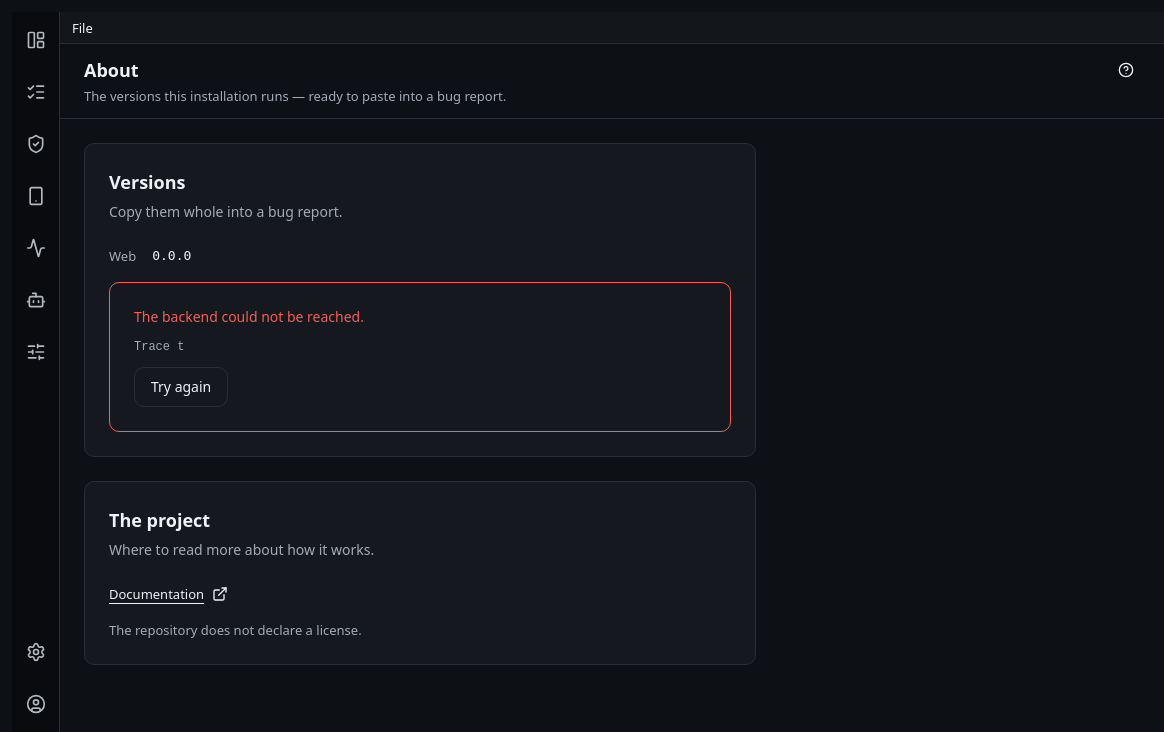
Test: About — plan 06, B-32 › keeps the web’s version on screen, and offers to try again, when the backend cannot be reached — S-204
Expected: the message shows "The backend could not be reached.", [134,307,364,326]
Expected: the text "0.0.0" is shown, [152,248,191,263]
Click the button "Try again": (181, 387) [134,367,228,407]
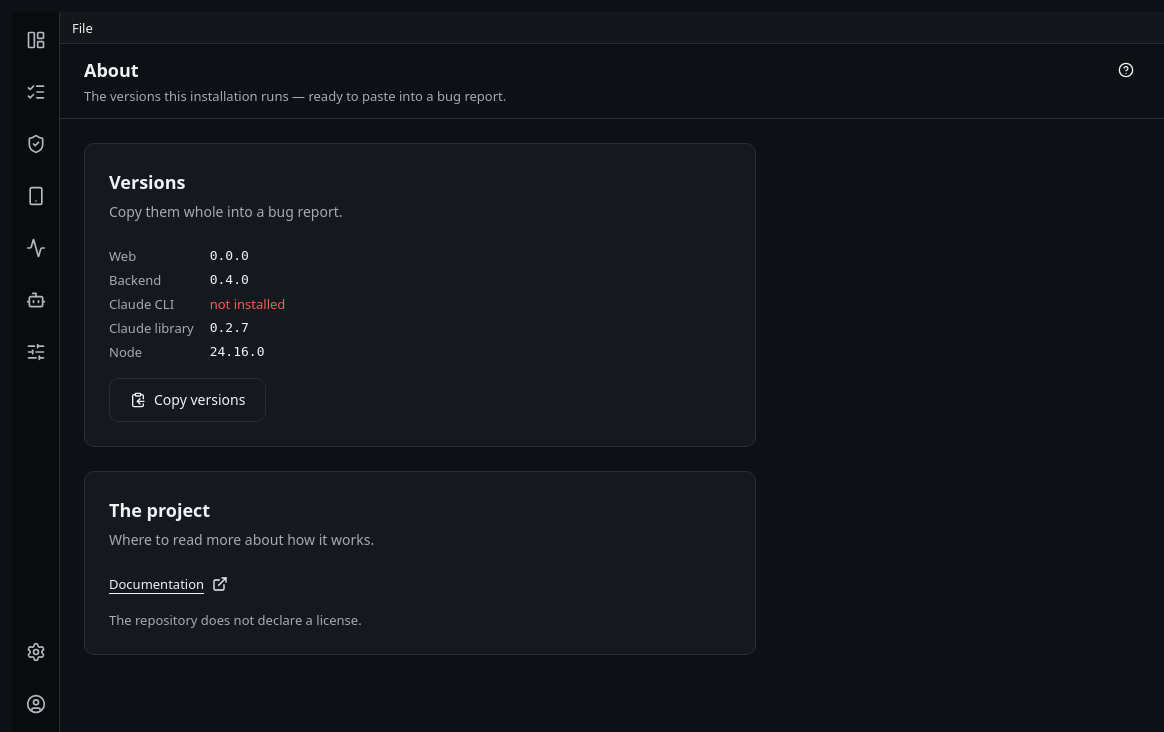
Expected: the text "0.4.0" is shown, [210,272,249,287]
